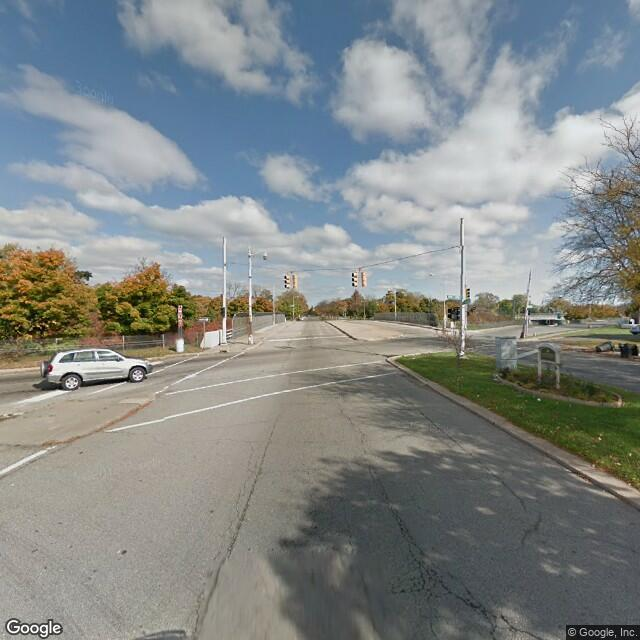litter: (537, 396, 544, 403), (598, 436, 605, 442), (473, 393, 480, 399)
